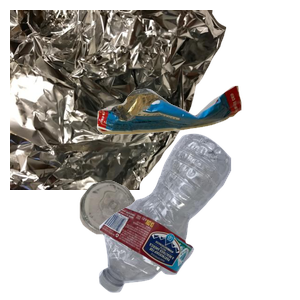glass: (77, 178, 205, 300)
metal: (10, 10, 229, 190)
plastic: (96, 131, 300, 300)
trash: (94, 83, 300, 210)
